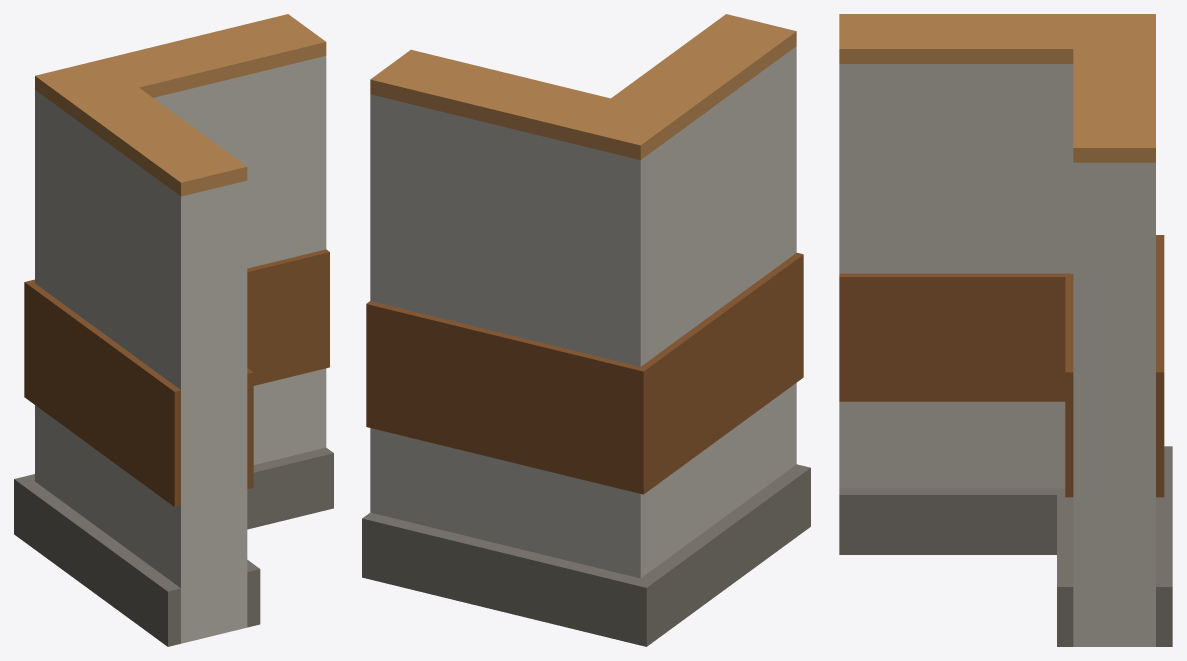
File: partition-full-elbow.glb
3 renders of one model, left to right at view 1: azimuth 30°, elevation 25°; view 2: azimuth 150°, elevation 25°; view 3: azimuth 270°, elevation 25°, orthographic. The views are drawn at different scales.
Visible parts, largest first — view 1: partition-full-elbow; view 2: partition-full-elbow; view 3: partition-full-elbow.
Part boxes in pixels (box(x1,y1,x2,y2)): partition-full-elbow: box(14, 14, 333, 646); partition-full-elbow: box(362, 14, 810, 646); partition-full-elbow: box(839, 14, 1172, 646).
Bounding box in the file's own units: 0.605 × 1 × 0.605.
1 material, 1 textured.
